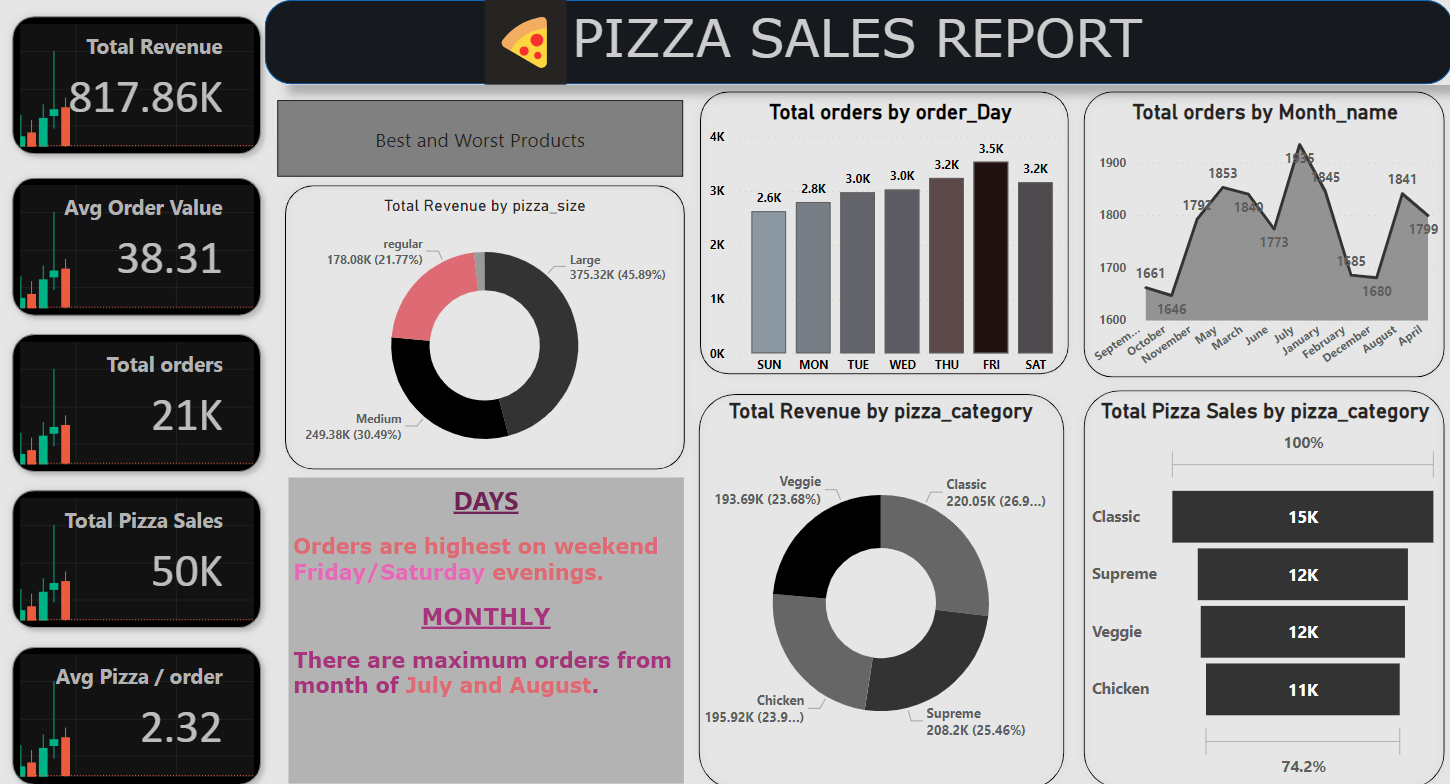

What the dashboard file says about the page in this screenshot:
{"tool":"powerbi","page":{"name":"Home","canvas":[1500,820],"ordinal":0},"visuals":[{"type":"cardVisual","fields":{"Data":["pizza_sales.total_revenue","pizza_sales.avg order value","pizza_sales.Total orders","pizza_sales.total pizza sale","pizza_sales.avg pizza per order"]},"box":[0,0,290,820.1],"z":0},{"type":"shape","box":[276.6,0,1223.7,86.8],"z":1000},{"type":"textbox","box":[295.9,0,1204.4,86.8],"z":2000},{"type":"textbox","box":[503.3,0,83.6,86.8],"z":3000},{"type":"shape","box":[717.2,86.8,395.6,307.1],"z":4000},{"type":"columnChart","fields":{"Y":["pizza_sales.Total orders"],"Category":["pizza_sales.order_Day"]},"box":[730.1,102.9,382.7,291.1],"z":5000},{"type":"shape","box":[1112.8,86.8,387.5,310.4],"z":6000},{"type":"areaChart","fields":{"Category":["pizza_sales.Month_name"],"Y":["pizza_sales.Total orders"]},"box":[1124,102.9,366.6,294.3],"z":7000},{"type":"shape","box":[289.5,183.3,427.7,308.7],"z":8000},{"type":"shape","box":[715.6,397.2,392.4,422.9],"z":9000},{"type":"shape","box":[1112.8,394,387.5,426.1],"z":10000},{"type":"donutChart","fields":{"Category":["pizza_sales.pizza_category"],"Y":["pizza_sales.Total Revenue"]},"box":[730.1,410.1,363,397.2],"z":11000},{"type":"donutChart","fields":{"Category":["pizza_sales.pizza_size"],"Y":["pizza_sales.Total Revenue"]},"box":[308.7,201,389.2,291.1],"z":12000},{"type":"funnel","fields":{"Y":["pizza_sales.Total Pizza Sales"],"Category":["pizza_sales.pizza_category"]},"box":[1124,410.1,366.6,397.2],"z":13000},{"type":"textbox","box":[300.7,492.1,406.8,315.2],"z":14000},{"type":"pageNavigator","box":[289.6,103,418.4,79.8],"z":15000}]}

Visuals, with their boxes in screenshot pixels (x1, y1, x2, y2), scaled from the page's 1500x820 canvas onto the 1450x784 screenshot:
cardVisual - pizza_sales.total_revenue x pizza_sales.avg order value: 0 0 280 783
shape: 267 0 1449 83
textbox: 286 0 1449 83
textbox: 487 0 567 83
shape: 693 83 1076 377
columnChart - pizza_sales.Total orders x pizza_sales.order_Day: 706 98 1076 377
shape: 1076 83 1449 380
areaChart - pizza_sales.Month_name x pizza_sales.Total orders: 1087 98 1441 380
shape: 280 175 693 470
shape: 692 380 1071 783
shape: 1076 377 1449 783
donutChart - pizza_sales.pizza_category x pizza_sales.Total Revenue: 706 392 1057 772
donutChart - pizza_sales.pizza_size x pizza_sales.Total Revenue: 298 192 675 470
funnel - pizza_sales.Total Pizza Sales x pizza_sales.pizza_category: 1087 392 1441 772
textbox: 291 470 684 772
pageNavigator: 280 98 684 175
